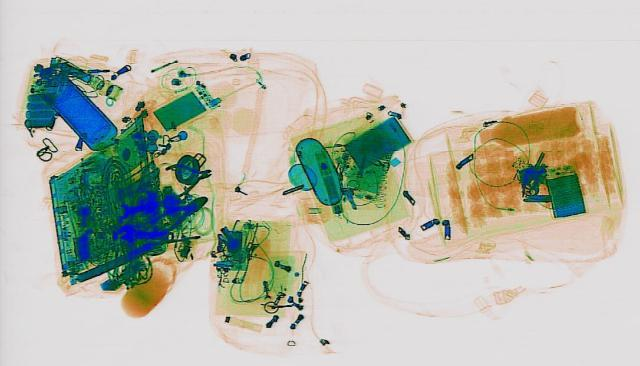Pliers: (140, 191, 218, 233), (156, 157, 220, 195)
Wrench: (111, 227, 173, 241)
